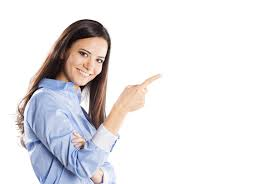hand: (107, 64, 177, 119)
